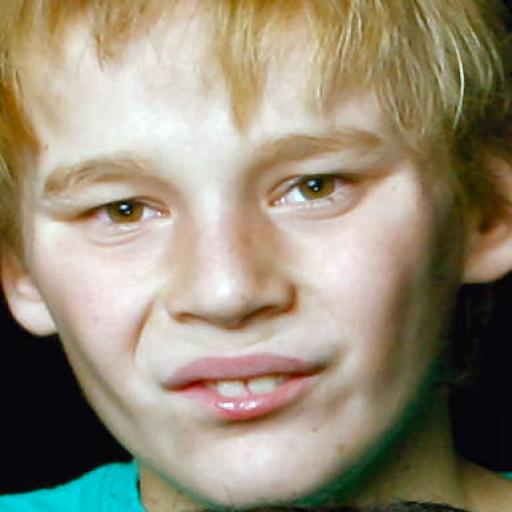Autism: (2, 5, 512, 512)
